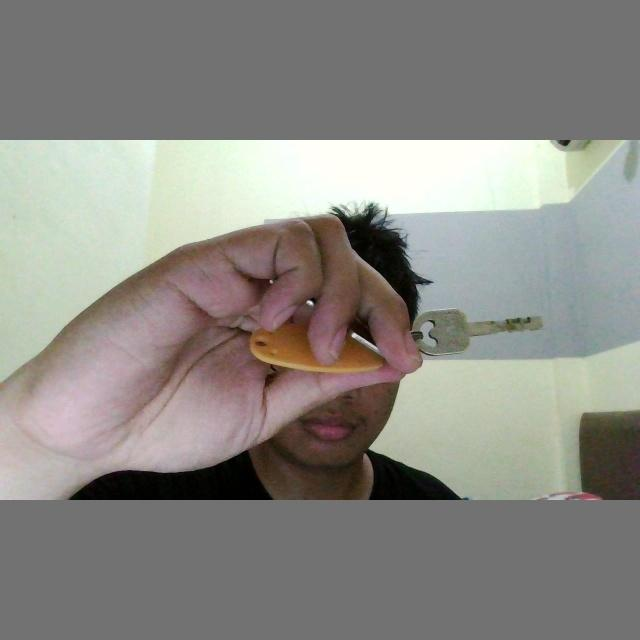Keys: (408, 300, 548, 362)
